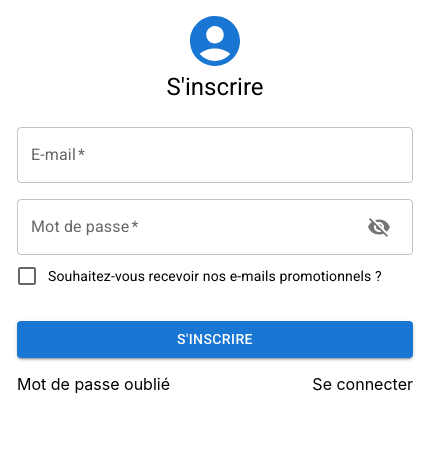
SignUp Component › displays error when password does not meet requirements
Type "short" into the password field labelled "Mot de passe *" at (184, 227), box 17,199 -> 351,255
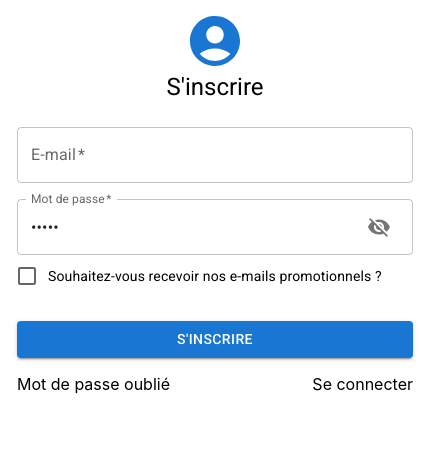
Click the button "S'inscrire" at (215, 339), box 17,321 -> 413,358
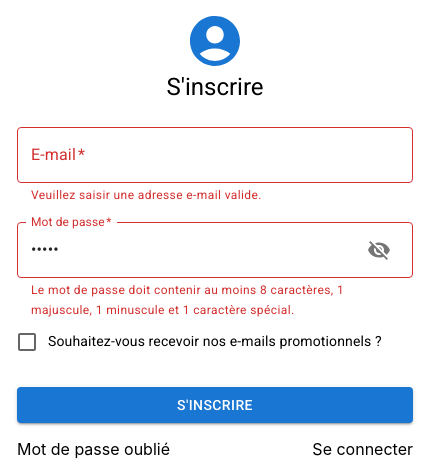
Expected: the text "Le mot de passe doit contenir au moins 8 caractères, 1 majuscule, 1 minuscule et 1 caractère spécial." is shown, 31,283 -> 344,317
